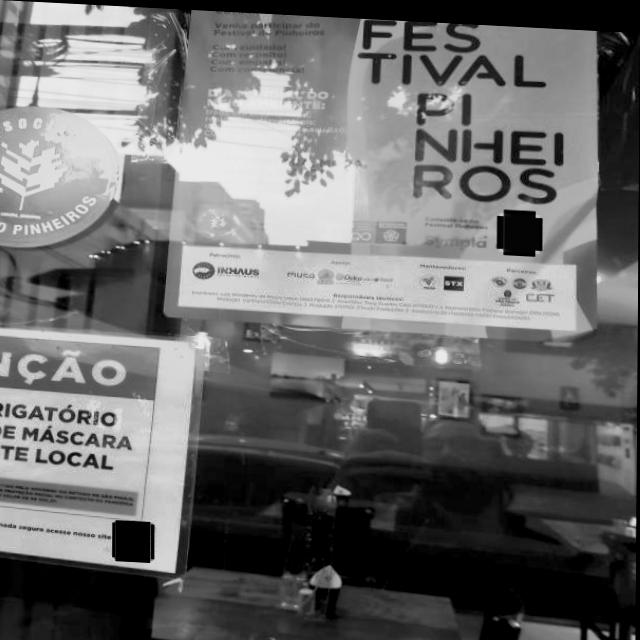qr_code: (500, 207, 540, 248), (115, 520, 154, 559)
